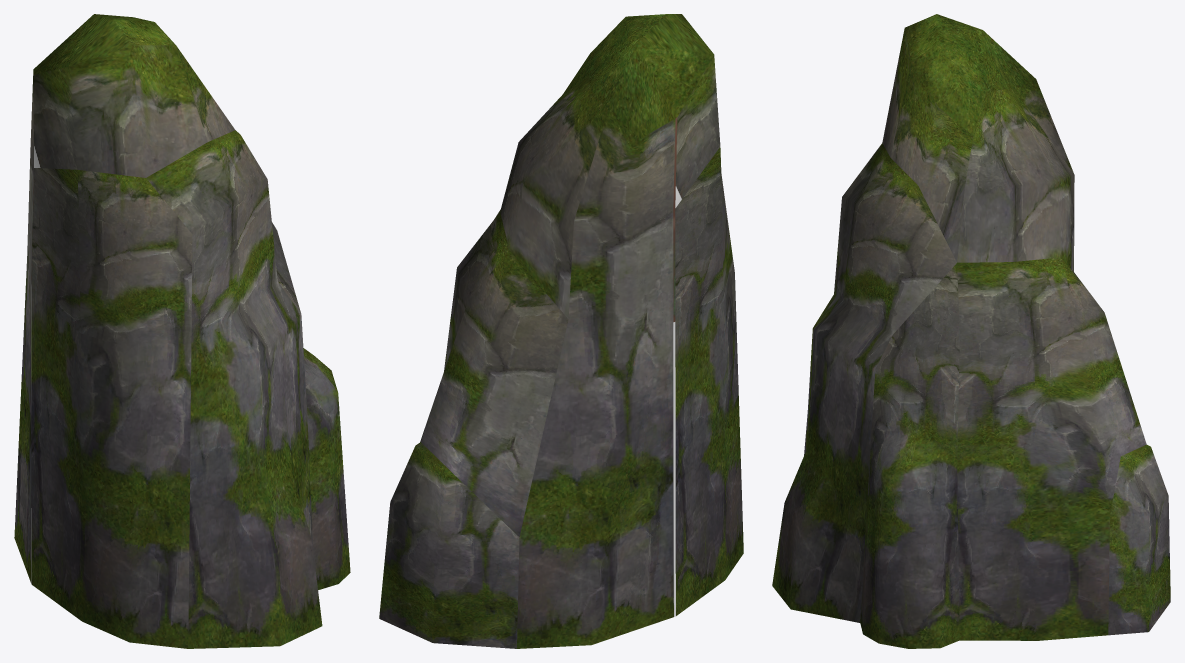
The model's file is Yland1_st_03 Yland1.FBX.
The picture shows the model from 3 angles, left to right: view 1: azimuth 30°, elevation 25°; view 2: azimuth 150°, elevation 25°; view 3: azimuth 270°, elevation 25°; orthographic projection. The views are drawn at different scales.
Parts seen in each view (by area): view 1: Yland1_st_03 Yland1; view 2: Yland1_st_03 Yland1; view 3: Yland1_st_03 Yland1.
Part boxes in pixels (x1,y1,x2,y2): Yland1_st_03 Yland1: [14, 14, 350, 648]; Yland1_st_03 Yland1: [379, 14, 743, 648]; Yland1_st_03 Yland1: [772, 14, 1170, 648].
Size of the model in its own units: 10.43 by 21.97 by 14.8.
